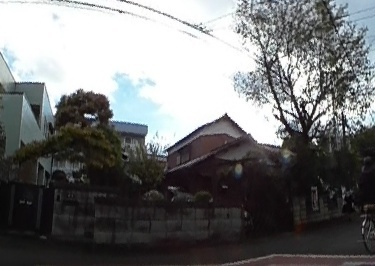person: (351, 153, 375, 235), (341, 190, 354, 219)
